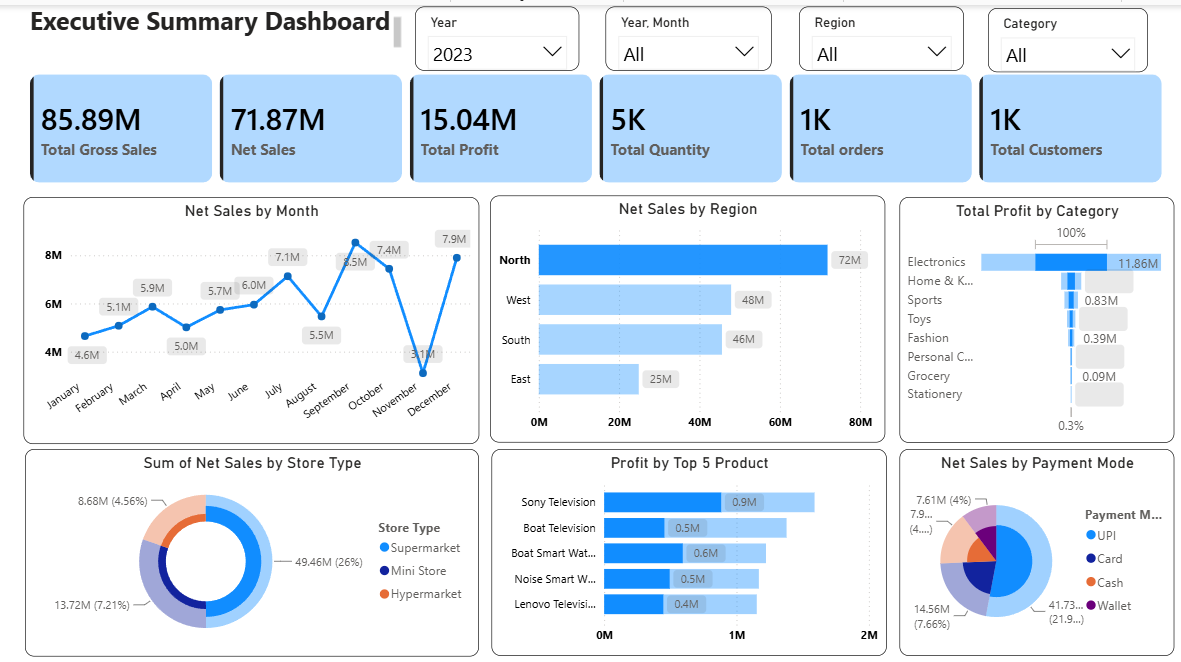

What the dashboard file says about the page in this screenshot:
{"tool":"powerbi","page":{"name":"Page 1","canvas":[1280,720],"ordinal":0},"visuals":[{"type":"slicer","fields":{"Values":["Date Table.Date.Variation.Date Hierarchy.Year"]},"box":[453.4,1.6,177.4,69.6],"z":0,"group":"g1"},{"type":"cardVisual","fields":{"Data":["All Measures.Total Gross Sales","All Measures.Net Sales","All Measures.Total Profit","All Measures.Total Quantity","All Measures.Total orders","All Measures.Total Customers"]},"box":[32.4,69.6,1233.9,127.9],"z":0},{"type":"textbox","box":[32.4,1.6,411.3,51.8],"z":1000},{"type":"slicer","fields":{"Values":["Date Table.Date.Variation.Date Hierarchy.Year","Date Table.Date.Variation.Date Hierarchy.Month"]},"box":[658.7,1.6,179.1,69.6],"z":1000,"group":"g1"},{"type":"group","id":"g1","title":"Group 1","box":[453.4,1.6,791.8,71.2],"z":2000},{"type":"slicer","fields":{"Values":["Stores.Region"]},"box":[867.3,2.2,178.1,69.6],"z":2000,"group":"g1"},{"type":"slicer","fields":{"Values":["Product.Category"]},"box":[1072.7,3.2,172.5,69.6],"z":3000,"group":"g1"},{"type":"lineChart","fields":{"Category":["Date Table.Date.Variation.Date Hierarchy.Month"],"Y":["All Measures.Net Sales"]},"box":[30,206.7,491.7,266.7],"z":3000},{"type":"clusteredBarChart","fields":{"Category":["Stores.Region"],"Y":["All Measures.Net Sales"]},"box":[535,205,426.7,266.7],"z":4000},{"type":"funnel","fields":{"Category":["Product.Category"],"Y":["All Measures.Total Profit"]},"box":[976.7,206.7,296.7,265],"z":5000},{"type":"donutChart","fields":{"Category":["Stores.Store Type"],"Y":["Sum(Sales.Net Sales)"]},"box":[32,480,490,224],"z":6000},{"type":"clusteredBarChart","title":"Profit by Top 5 Product","fields":{"Category":["Product.Product Name"],"Y":["All Measures.Total Profit"]},"box":[536.7,480,426.7,223.3],"z":7000},{"type":"pieChart","fields":{"Category":["Sales.Payment Mode"],"Y":["All Measures.Net Sales"]},"box":[976.7,480,296.7,223.3],"z":8000}]}

Visuals, with their boxes in screenshot pixels (x1, y1, x2, y2), scaled from the page's 1280x720 canvas onto the 1181x662 screenshot:
slicer - Date Table.Date.Variation.Date Hierarchy.Year: detection(418, 1, 582, 65)
cardVisual - All Measures.Total Gross Sales x All Measures.Net Sales: detection(30, 64, 1168, 182)
textbox: detection(30, 1, 409, 49)
slicer - Date Table.Date.Variation.Date Hierarchy.Year x Date Table.Date.Variation.Date Hierarchy.Month: detection(608, 1, 773, 65)
"Group 1" group: detection(418, 1, 1149, 67)
slicer - Stores.Region: detection(800, 2, 965, 66)
slicer - Product.Category: detection(990, 3, 1149, 67)
lineChart - Date Table.Date.Variation.Date Hierarchy.Month x All Measures.Net Sales: detection(28, 190, 481, 435)
clusteredBarChart - Stores.Region x All Measures.Net Sales: detection(494, 188, 887, 434)
funnel - Product.Category x All Measures.Total Profit: detection(901, 190, 1175, 434)
donutChart - Stores.Store Type x Sum(Sales.Net Sales): detection(30, 441, 482, 647)
"Profit by Top 5 Product" clusteredBarChart: detection(495, 441, 889, 647)
pieChart - Sales.Payment Mode x All Measures.Net Sales: detection(901, 441, 1175, 647)
